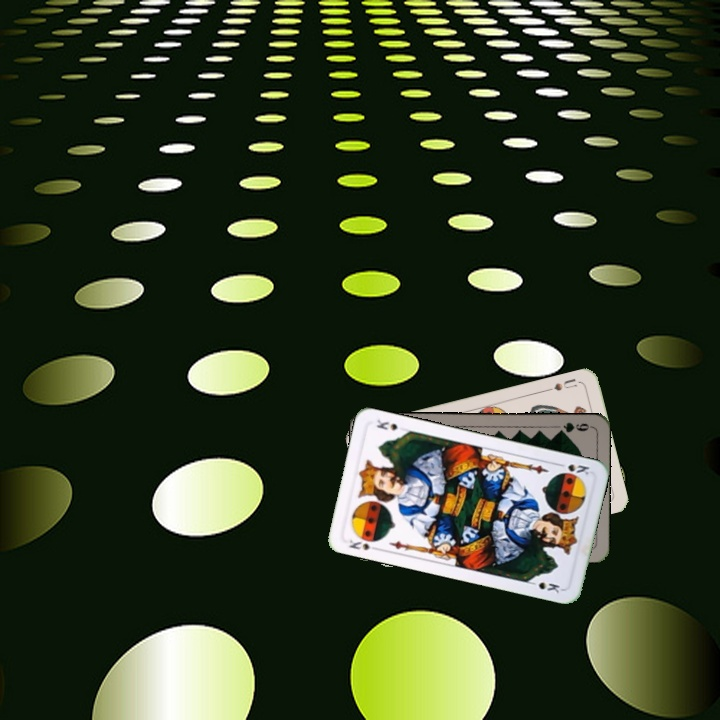G9: (553, 418, 594, 437)
SK: (553, 459, 593, 478), (345, 536, 382, 553)
SU: (543, 374, 579, 394)
